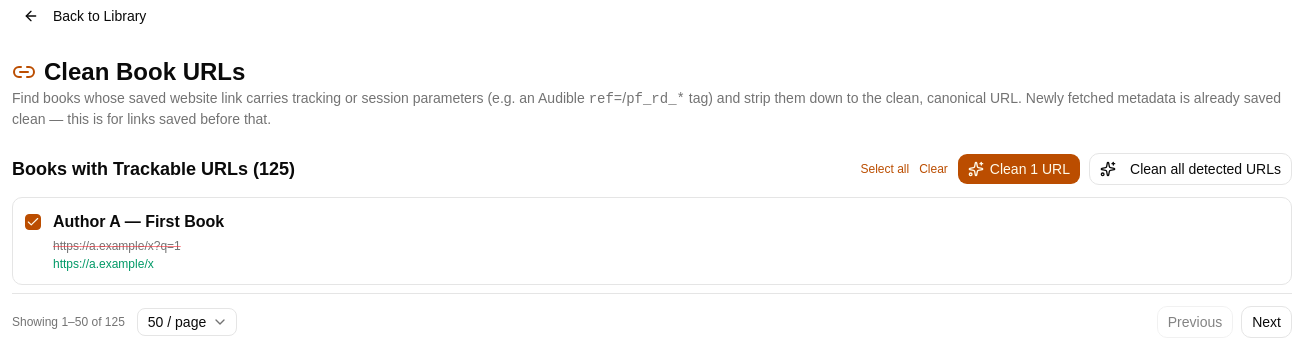
it: CleanBookUrls › shows a pager and fetches the next page of dirty URLs
expect the link "Author A — First Book" is shown: met, box x1=53 y1=213 x2=224 y2=230
expect the heading "Books with Trackable URLs (125)" is shown: met, box x1=12 y1=155 x2=295 y2=183
Click the button "Next": [1267, 322] box x1=1241 y1=306 x2=1292 y2=338
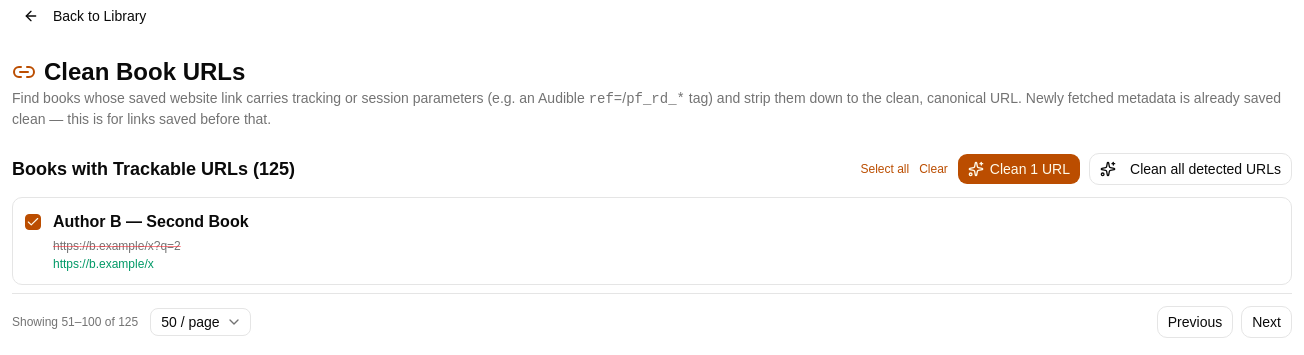
expect the link "Author B — Second Book" is shown: met, box x1=53 y1=213 x2=249 y2=230
expect the text "Showing 51–100 of 125" is shown: met, box x1=12 y1=314 x2=138 y2=330
